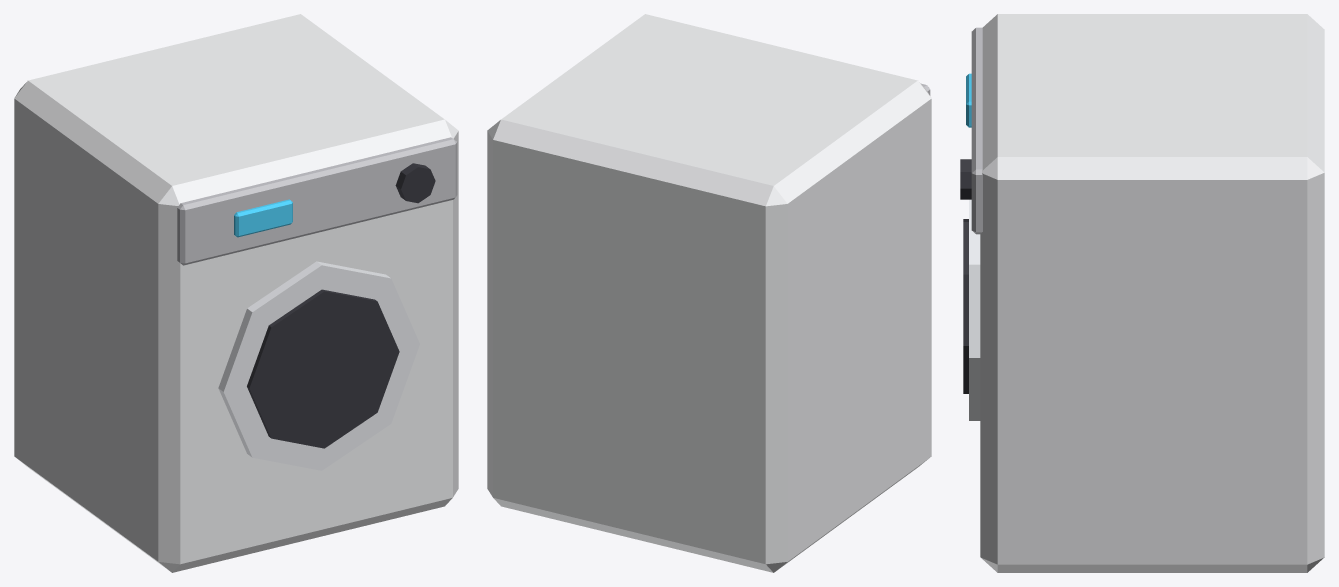
The model's file is Dryer.fbx.
3 renders of one model, left to right at view 1: azimuth 30°, elevation 25°; view 2: azimuth 150°, elevation 25°; view 3: azimuth 270°, elevation 25°, orthographic. The views are drawn at different scales.
Parts seen in each view (by area): view 1: Dryer; view 2: Dryer; view 3: Dryer.
Boxes of the visible parts, x1,y1,x2,y2 form: Dryer: (14,14,458,572); Dryer: (487,14,931,572); Dryer: (960,14,1324,572).
Size of the model in its own units: 2.6 by 3.2 by 2.54.
1 material, 1 textured.
